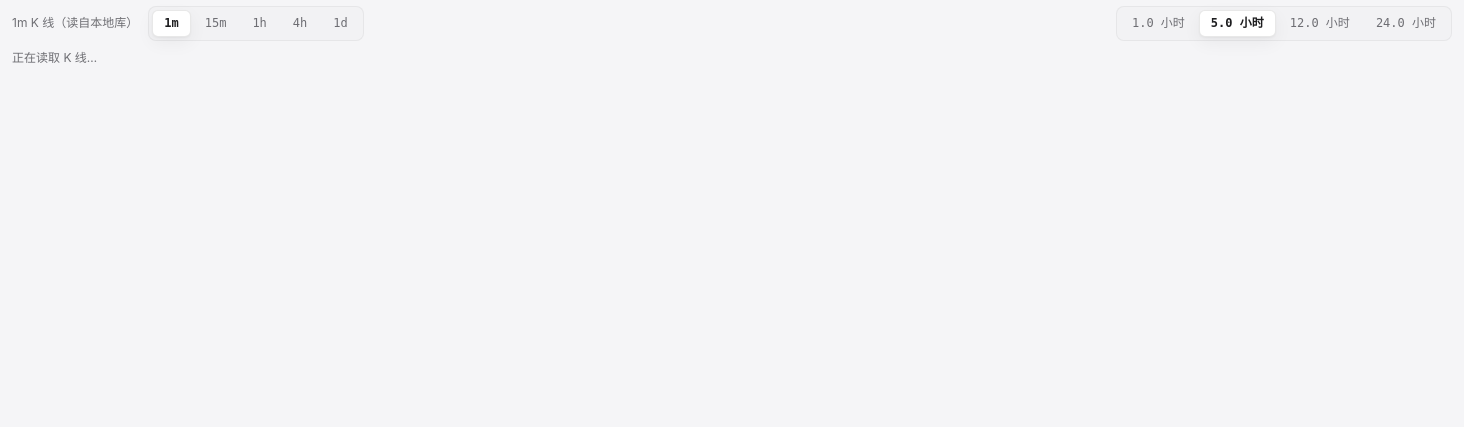
PriceChart 周期切换 › 切到 4h 后请求带 interval=4h，且当前周期一直可见
The image size is (1464, 427).
Click the button titled "切换到 4h" at (300, 23), box [281,10,319,37]
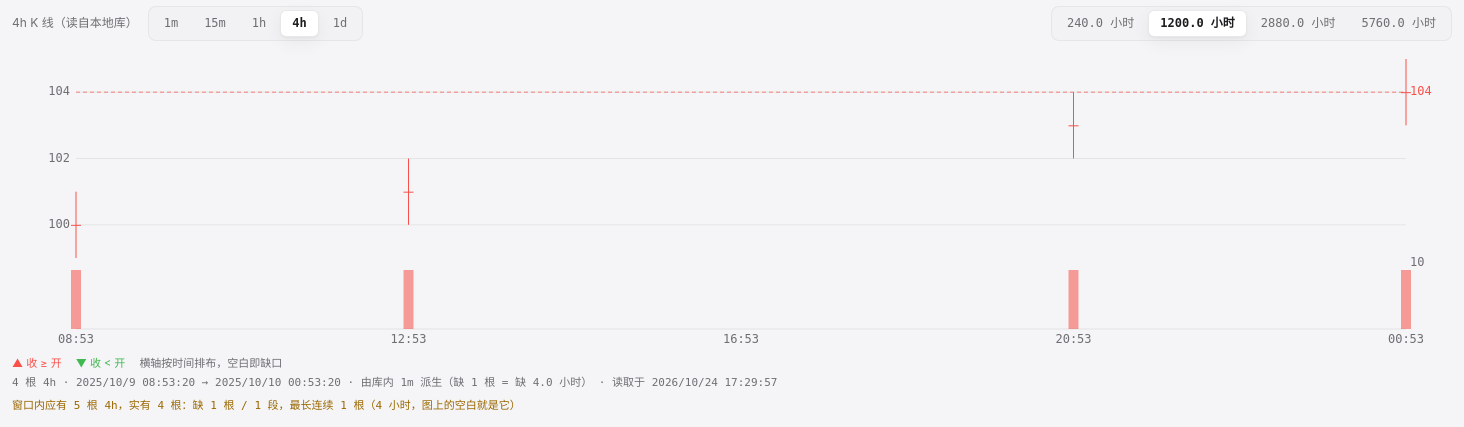
Result: the text "4h K 线" is shown at [12,14,138,32]
